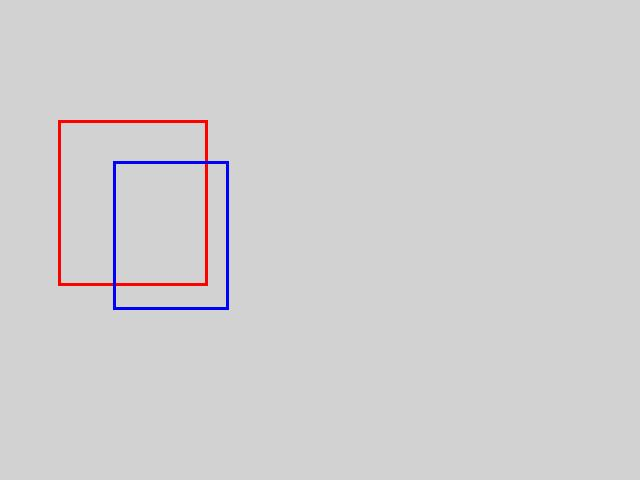car: (113, 161, 228, 309)
person: (58, 120, 207, 285)
